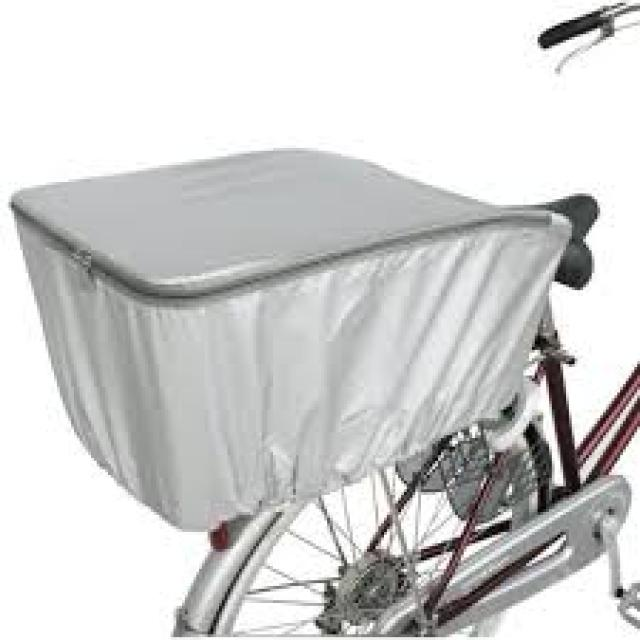basket: (10, 133, 566, 523)
